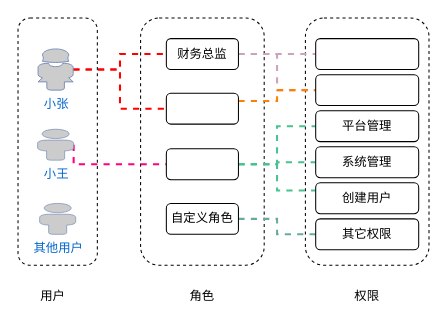
The diagram is 447 pixels wide and 324 high, and some of its shapes have lost their labels. The shapes that lost their labels are listed below. From the top down, each one's centre as x and y in pixels, then its label:
At [367,54]: "财务审批".
At [201,108]: "销售总监".
At [367,90]: "项目申报".
At [201,164]: "运维人员".
